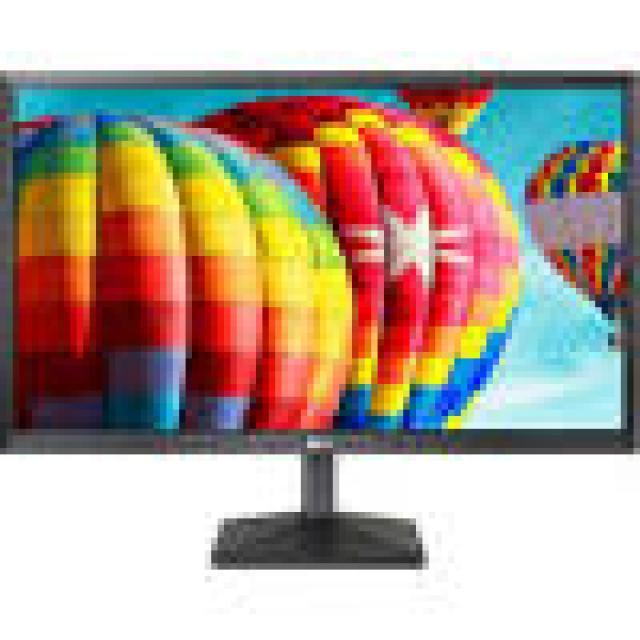monitor: (4, 64, 640, 615)
